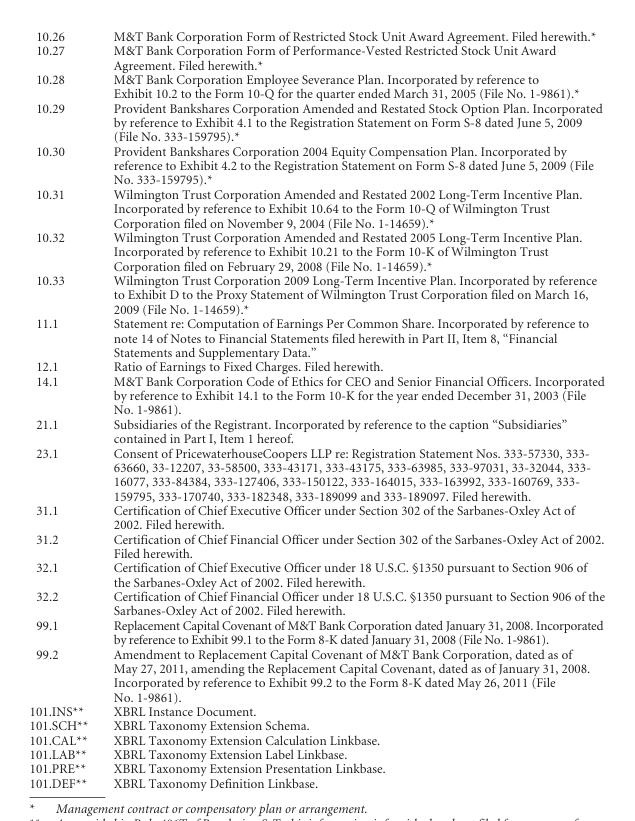table: (28, 29, 603, 790)
table column: (100, 29, 603, 790), (28, 29, 100, 790)
table row: (28, 445, 603, 503), (28, 646, 603, 704), (28, 186, 603, 230), (28, 100, 603, 143), (28, 143, 603, 186), (28, 230, 603, 273), (28, 273, 603, 316), (28, 316, 603, 359), (28, 373, 603, 416), (28, 71, 603, 100), (28, 416, 603, 445), (28, 531, 603, 560), (28, 560, 603, 589), (28, 617, 603, 646), (28, 43, 603, 71), (28, 503, 603, 531), (28, 589, 603, 617), (28, 732, 603, 747), (28, 775, 603, 790), (28, 29, 603, 43), (28, 359, 603, 373), (28, 704, 603, 718), (28, 718, 603, 732), (28, 747, 603, 761), (28, 761, 603, 775)
